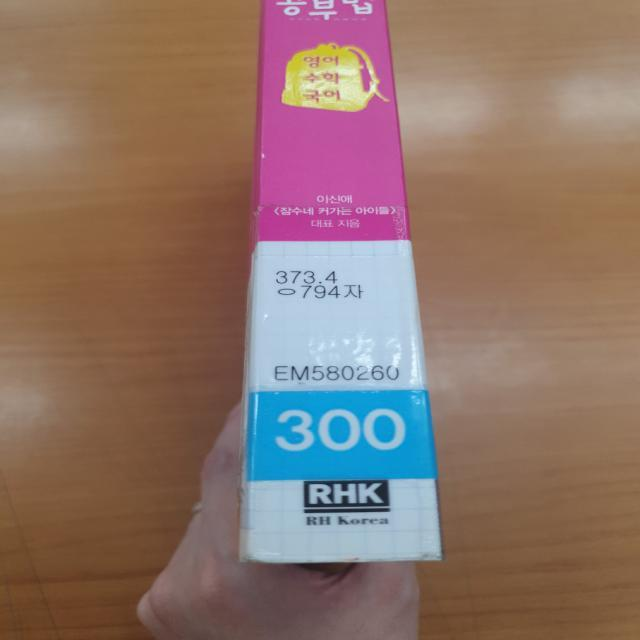Wornout: (233, 541, 454, 572)
